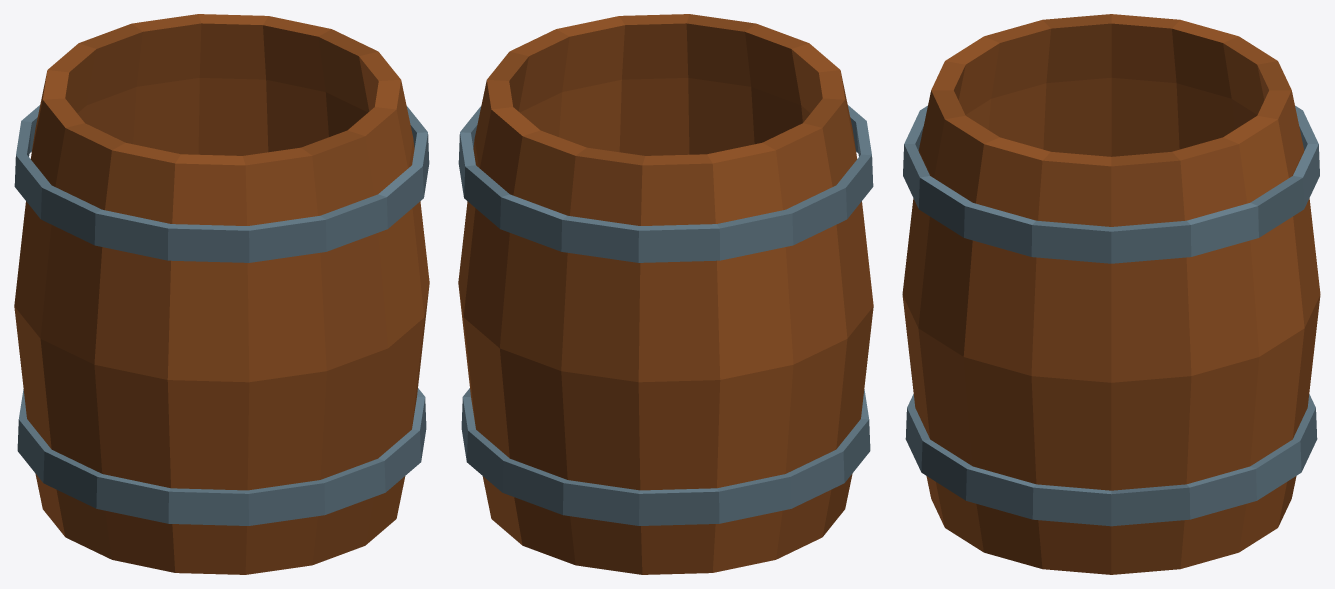
File: D07_Barrel_Open.fbx
3 renders of one model, left to right at view 1: azimuth 30°, elevation 25°; view 2: azimuth 150°, elevation 25°; view 3: azimuth 270°, elevation 25°, orthographic.
Parts seen in each view (by area): view 1: D07_Barrel_Open; view 2: D07_Barrel_Open; view 3: D07_Barrel_Open.
Part boxes in pixels (<box>): D07_Barrel_Open: <box>14,14,429,574</box>; D07_Barrel_Open: <box>458,14,873,574</box>; D07_Barrel_Open: <box>902,14,1320,574</box>.
Bounding box in the file's own units: 1.02 × 1.1 × 1.02.
2 materials, 2 textured.
